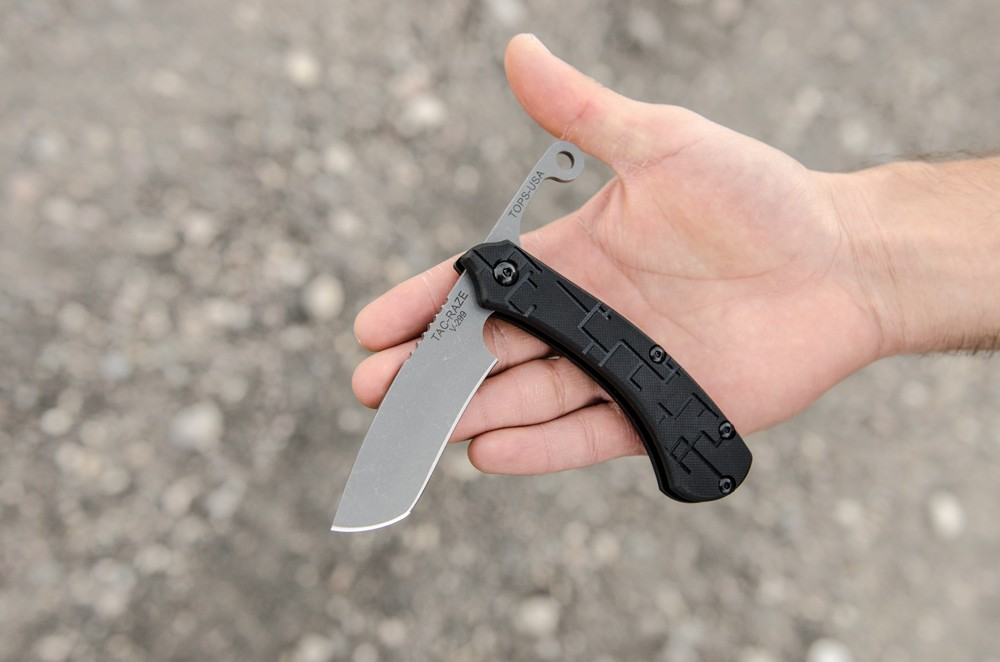knife: (328, 140, 754, 532)
